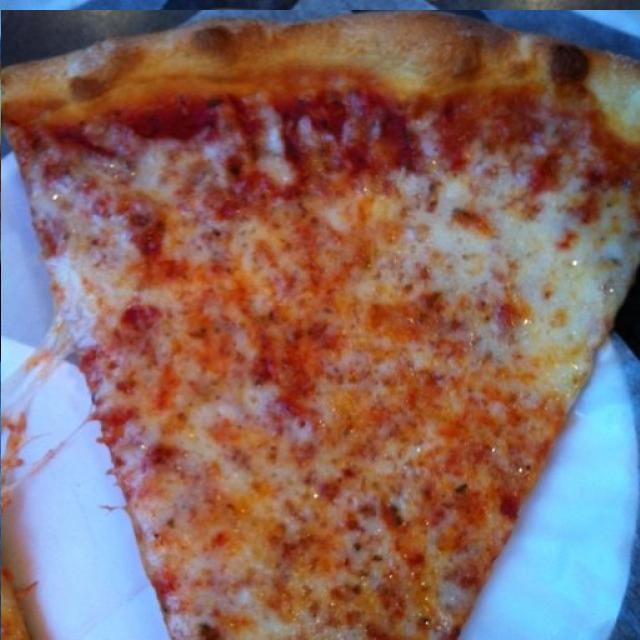pizza: (1, 10, 640, 640)
